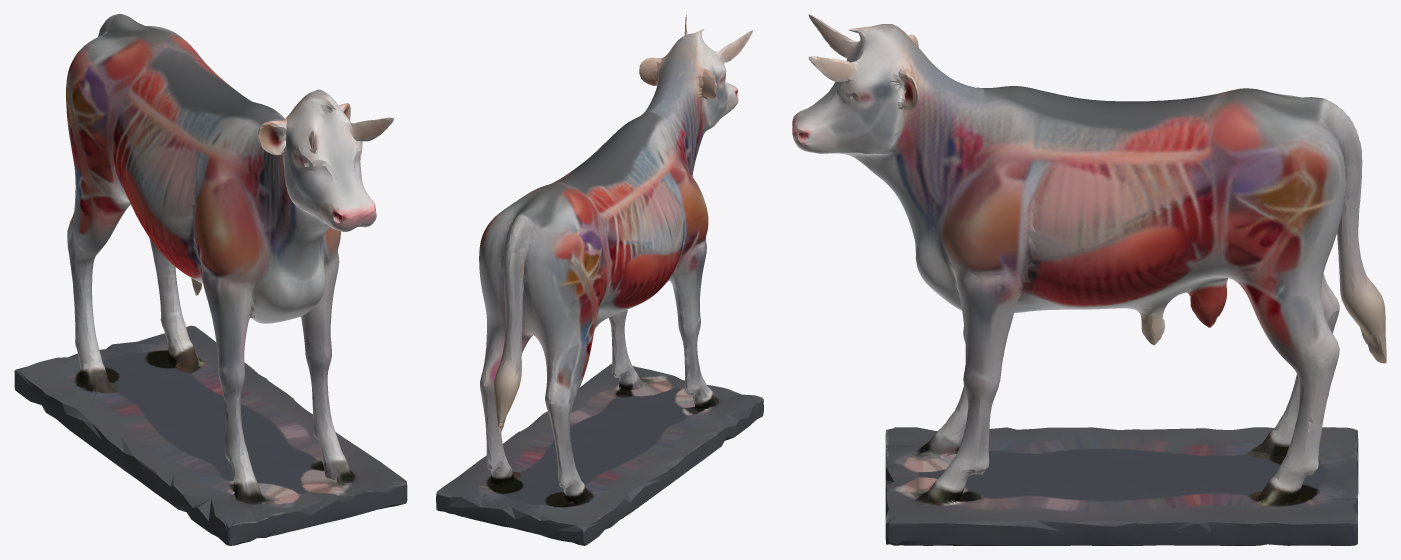
File: cow_anatomy.glb
3 renders of one model, left to right at view 1: azimuth 30°, elevation 25°; view 2: azimuth 150°, elevation 25°; view 3: azimuth 270°, elevation 25°, orthographic. The views are drawn at different scales.
Visible parts, largest first — view 1: model; view 2: model; view 3: model.
Boxes of the visible parts, x1=… form: model: x1=14, y1=14, x2=407, y2=545; model: x1=436, y1=14, x2=763, y2=545; model: x1=792, y1=14, x2=1386, y2=545.
Bounding box in the file's own units: 0.728 × 1.67 × 1.9.
1 material, 1 textured.
